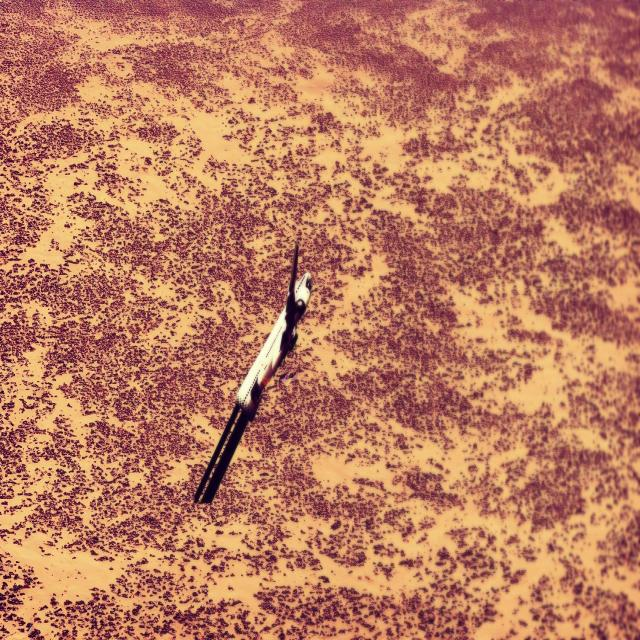airplane: (193, 241, 313, 506)
